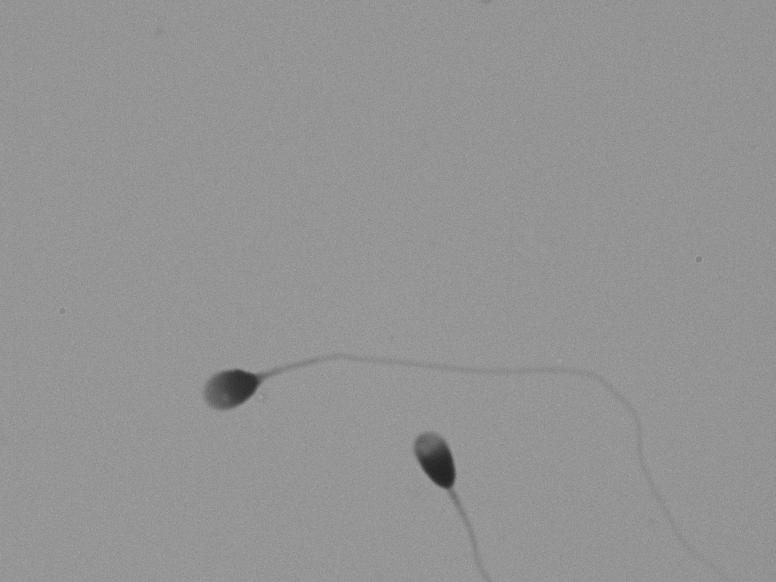Abnormal: (341, 403, 523, 566)
Normal: (140, 263, 730, 428)
